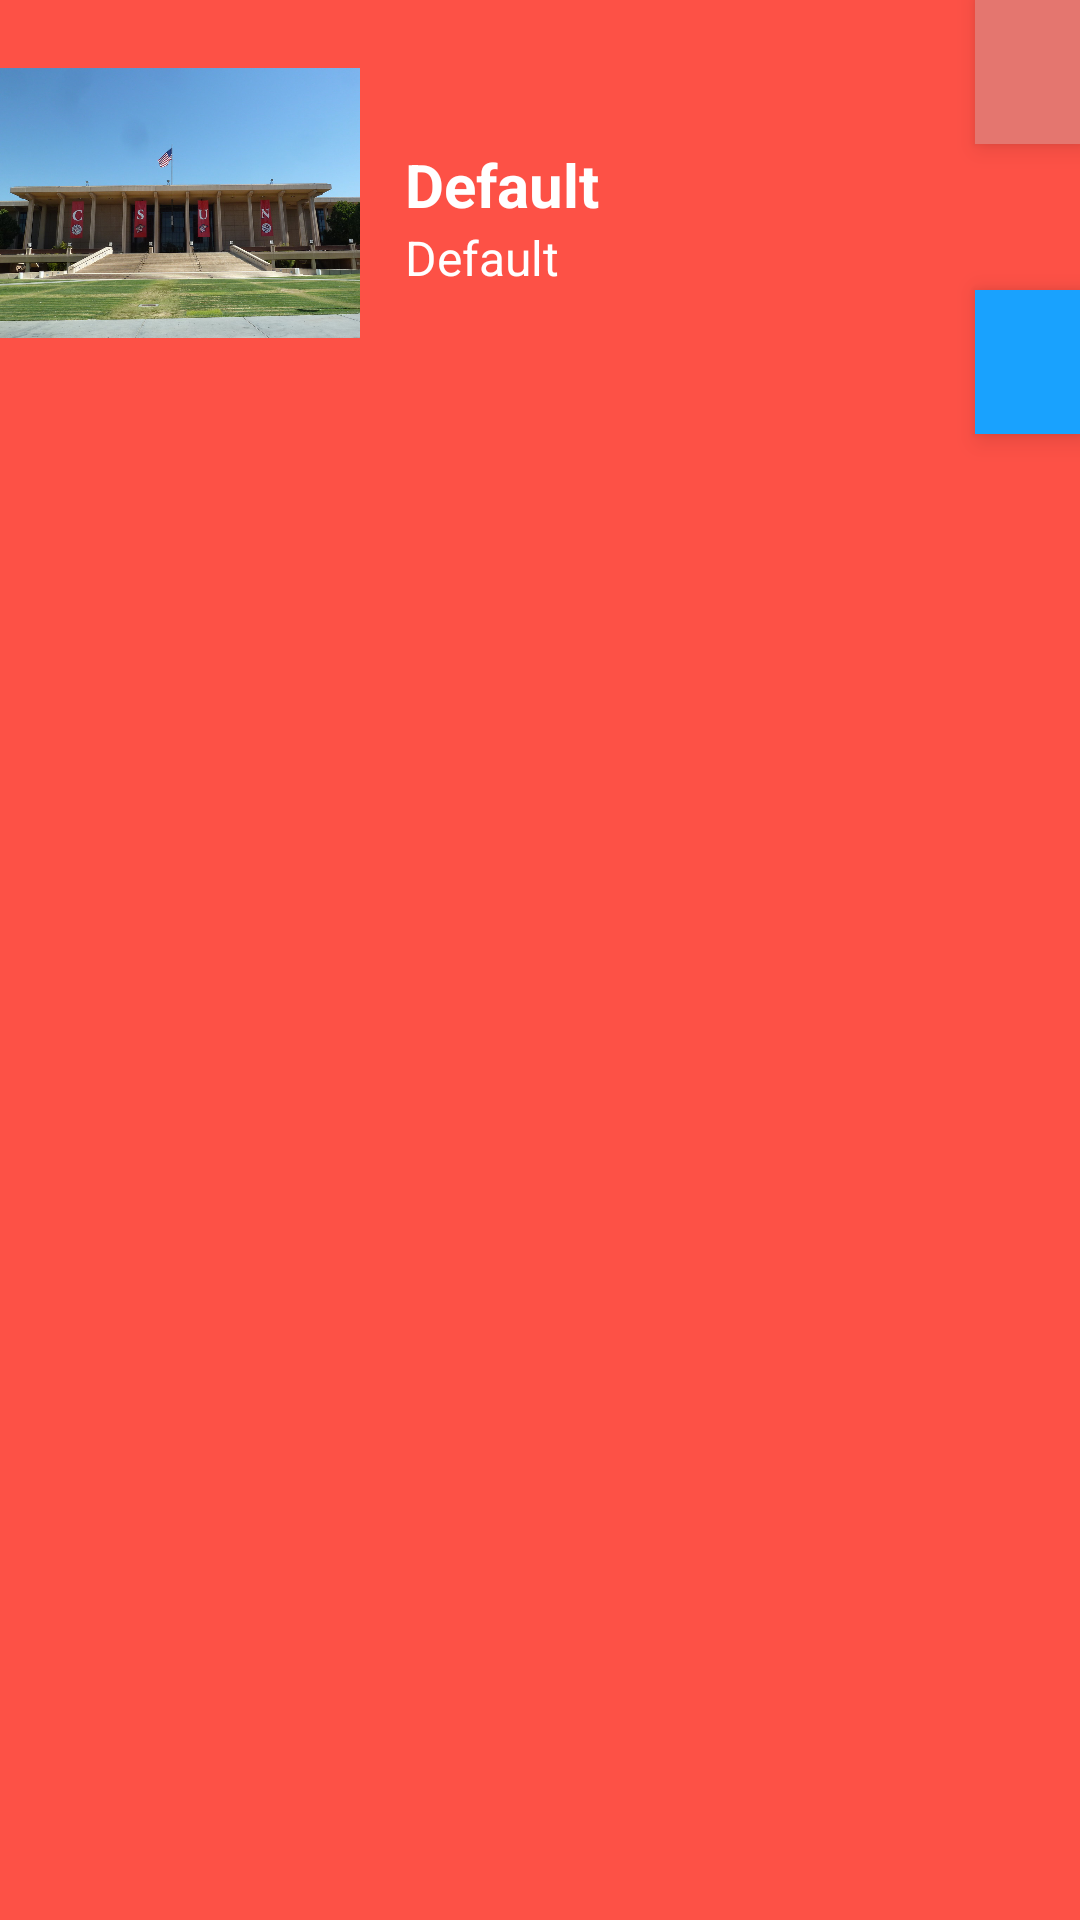

Where icons sit on this 1080 × 1920 app screen, as box=[x1, y1, x2, y2]:
Spot Image: box=[0, 68, 360, 338]
